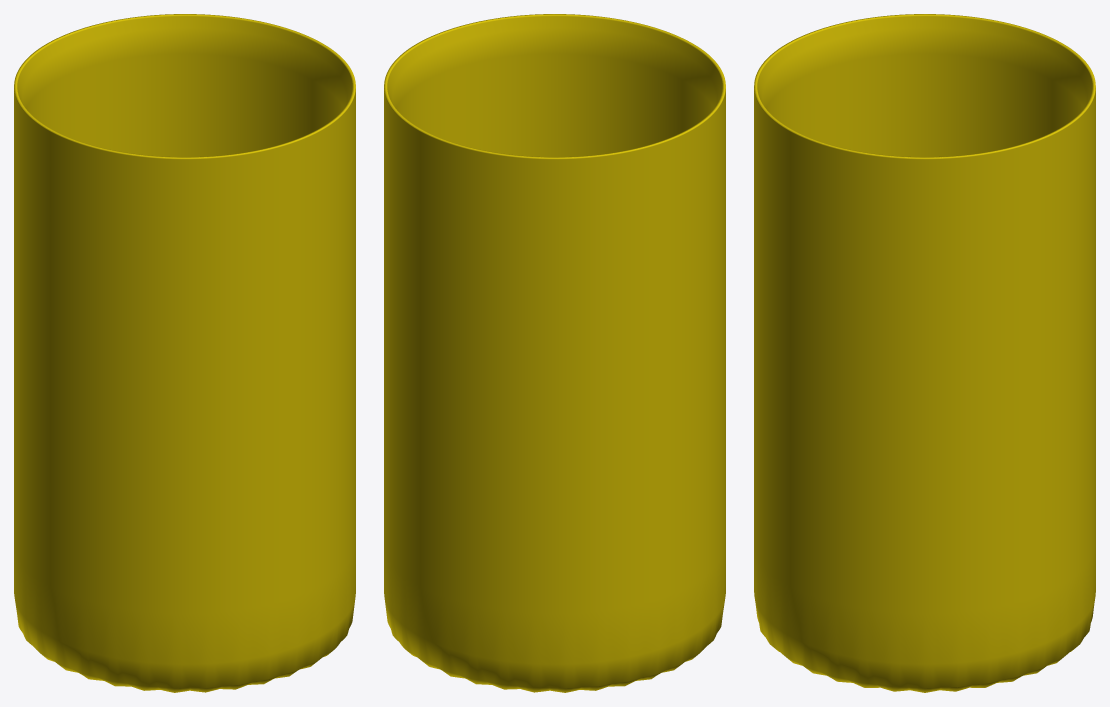
The model's file is shell.fbx.
3 renders of one model, left to right at view 1: azimuth 30°, elevation 25°; view 2: azimuth 150°, elevation 25°; view 3: azimuth 270°, elevation 25°, orthographic.
Visible parts, largest first — view 1: Cylinder; view 2: Cylinder; view 3: Cylinder.
Boxes of the visible parts, left/top/right/bottom form: Cylinder: left=14, top=14, right=355, bottom=692; Cylinder: left=384, top=14, right=725, bottom=692; Cylinder: left=754, top=14, right=1095, bottom=692.
Bounding box in the file's own units: 58.62 × 103 × 58.62.
